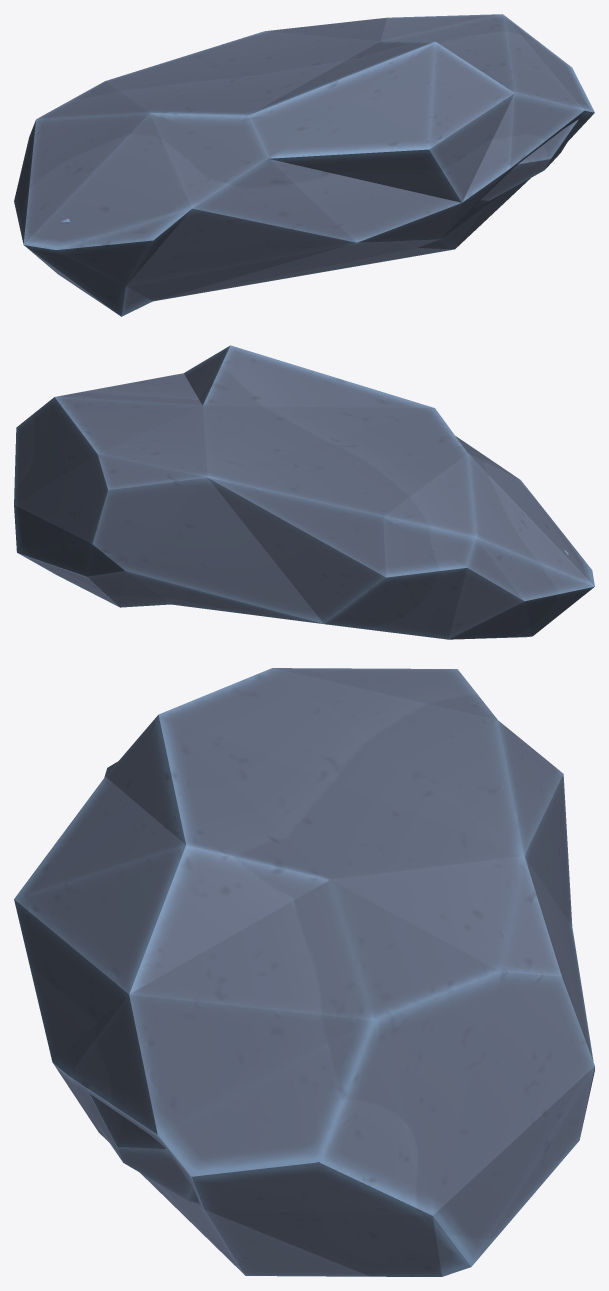
Rendered from Rock Pack 1.fbx.
3 renders of one model, top to bottom at view 1: azimuth 30°, elevation 25°; view 2: azimuth 150°, elevation 25°; view 3: azimuth 270°, elevation 25°, orthographic. The views are drawn at different scales.
Parts seen in each view (by area): view 1: Sphere.044, Sphere.037; view 2: Sphere.044; view 3: Sphere.044, Sphere.037.
Boxes of the visible parts, box(x1,y1,x2,y2) form: Sphere.044: box(14, 14, 594, 316); Sphere.037: box(61, 119, 578, 222); Sphere.044: box(14, 345, 594, 639); Sphere.044: box(14, 668, 594, 1276); Sphere.037: box(89, 1094, 199, 1203).
Size of the model in its own units: 2059 by 802 by 1057.
